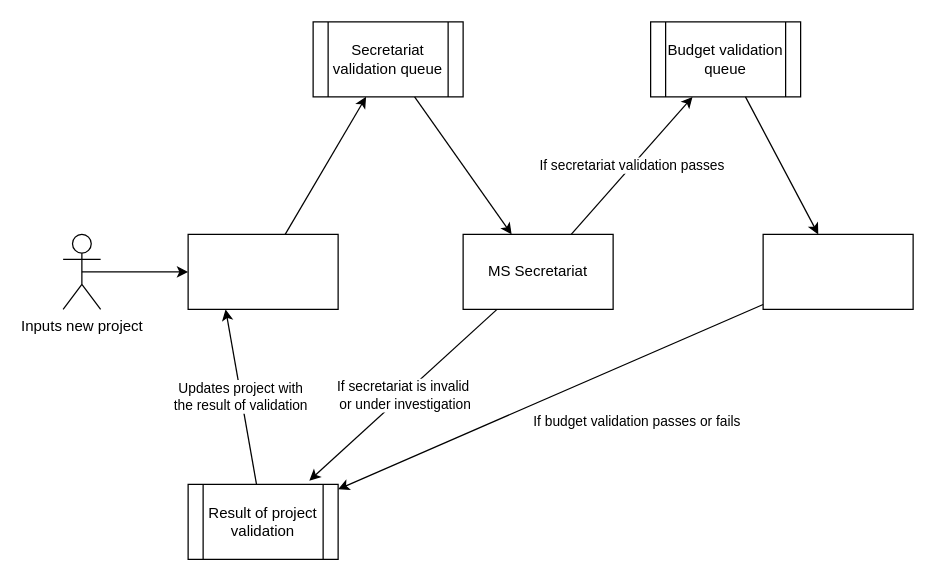
Some shapes in this 935 by 581 pixel diagram are drawn without their labels. Here are the shapes that lost their labels. From the top down, the centre of each, then its label:
(x=262, y=271): MS Project
(x=837, y=271): MS Budget
